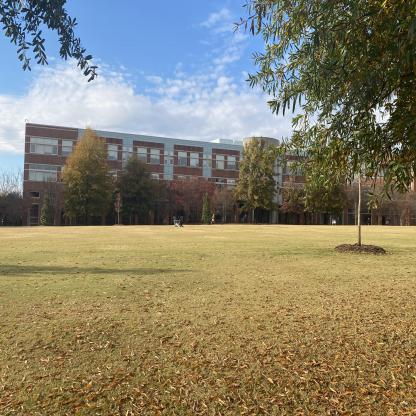EB-1: (23, 110, 380, 232)
